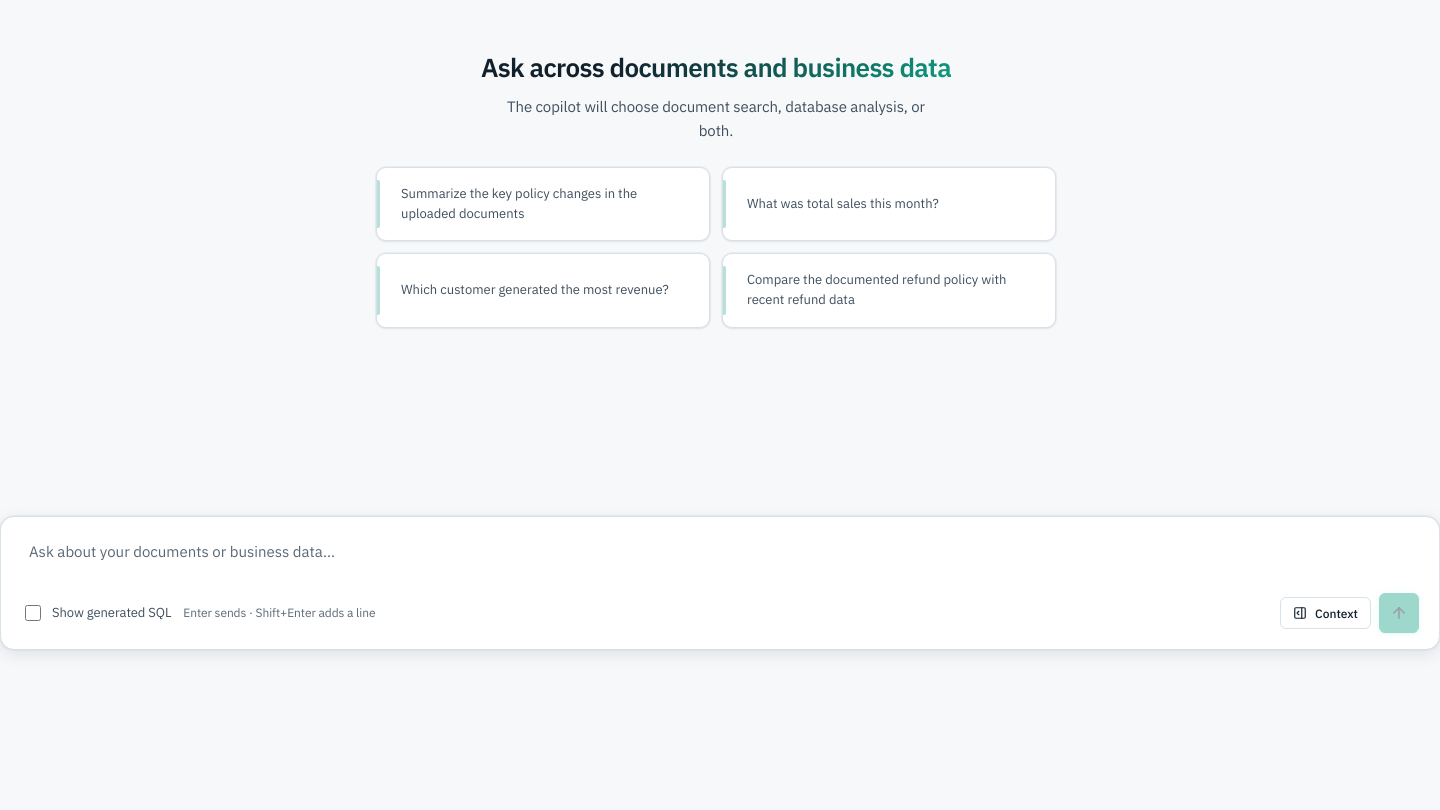
Scenario: CopilotPage › renders a database-route answer with route badge and rows
Type "sales?" into the text box labelled "Ask about your documents or business data…" at x=720, y=557, box [21,533,1419,581]
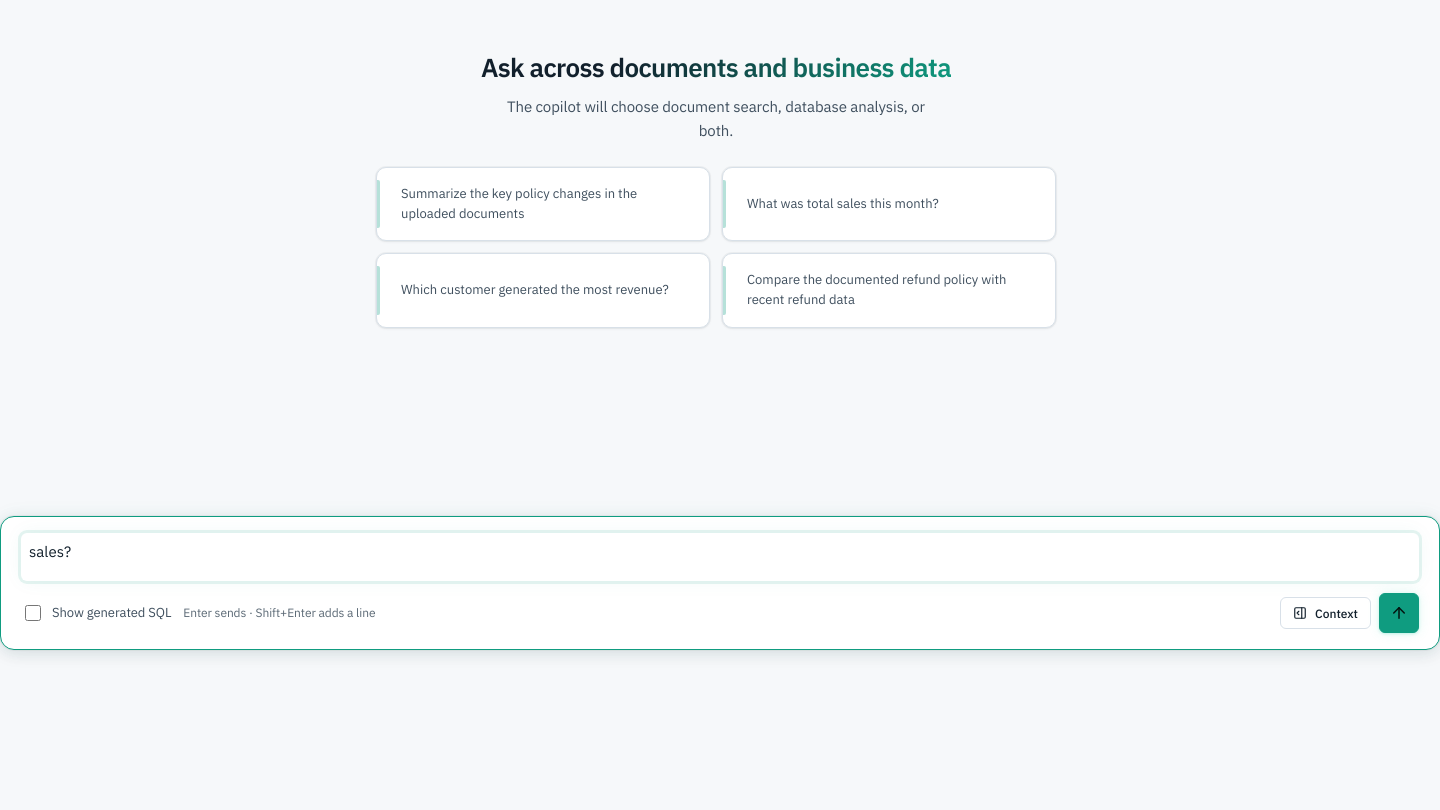
Click the button named "send question" at x=1399, y=613, box [1379,593,1419,633]
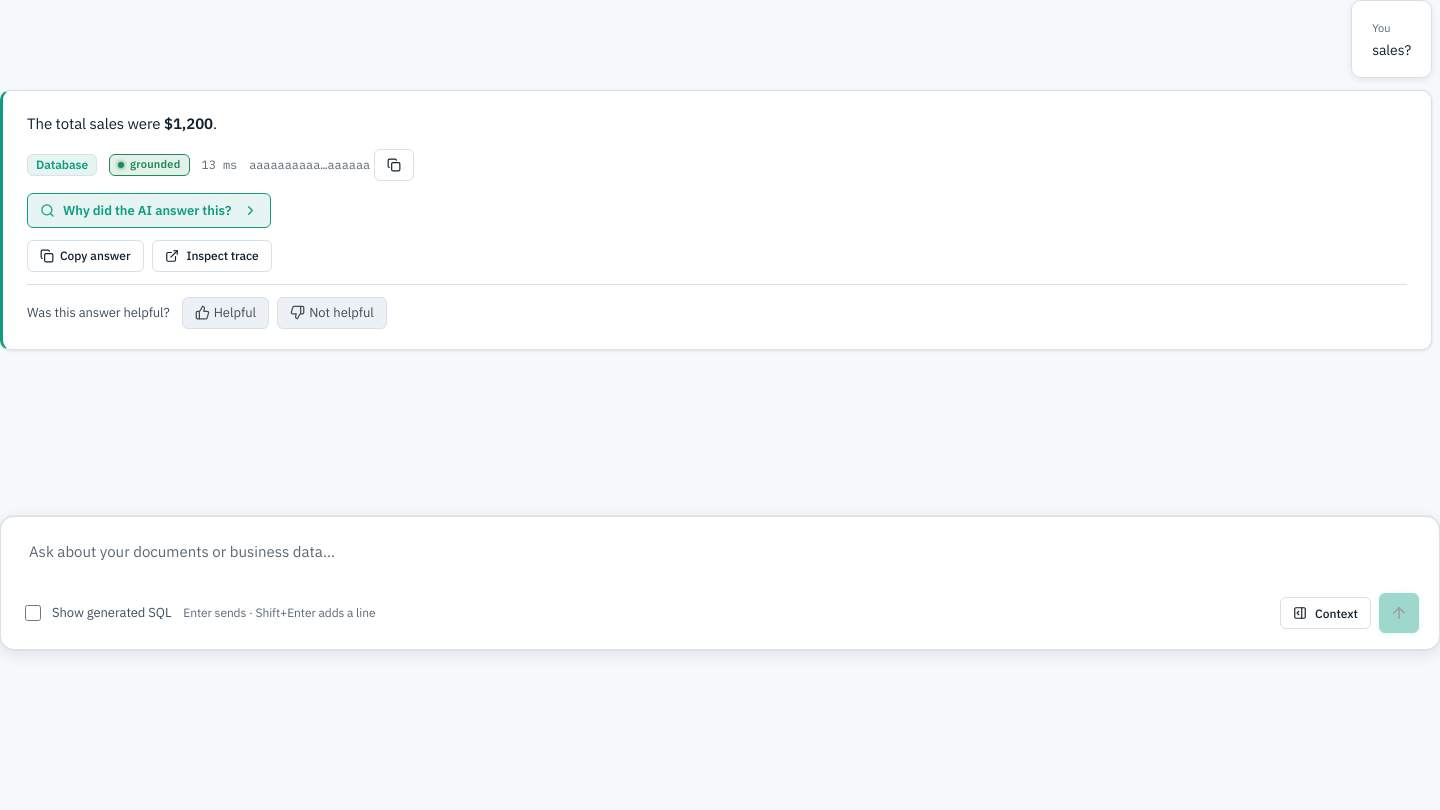
Expected: the text "Database" is shown, [27,154,97,176]
Expected: the text "The total sales were $1,200." is shown, [27,114,217,133]
